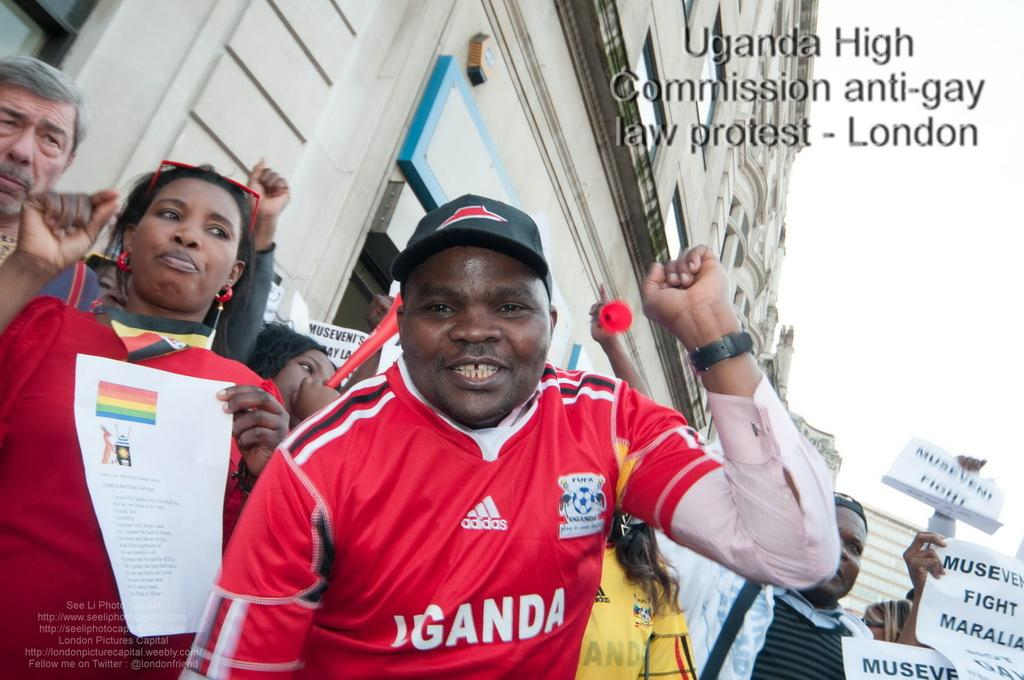Hat: (391, 188, 551, 301)
